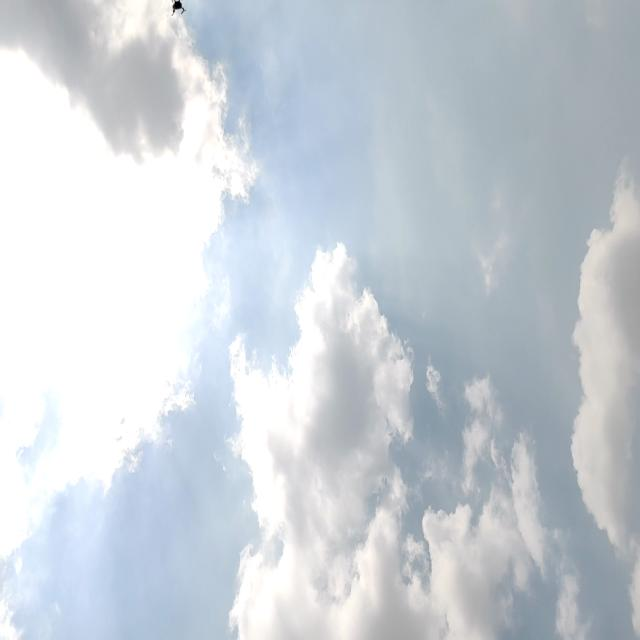drone: (158, 0, 198, 30)
